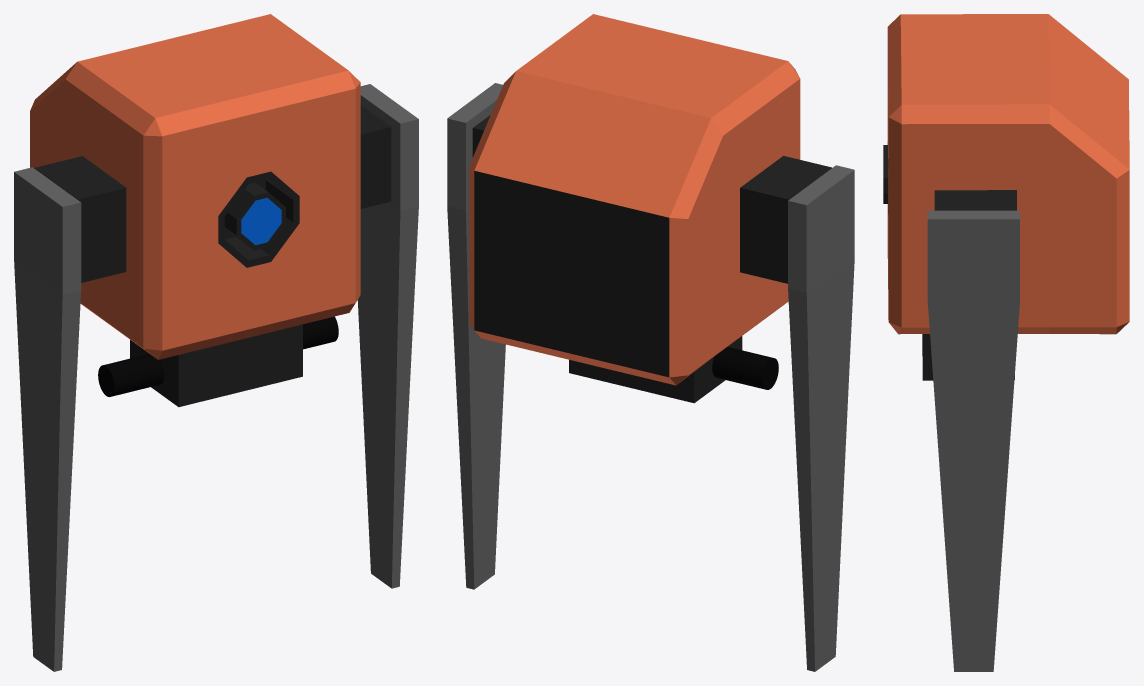
File: droid_v001.fbx
3 views of the same model, side by side, from view 1: azimuth 30°, elevation 25°; view 2: azimuth 150°, elevation 25°; view 3: azimuth 270°, elevation 25° (orthographic). The views are drawn at different scales.
Parts seen in each view (by area): view 1: Body, ArmR, ArmL, Axel; view 2: Body, ArmR, ArmL, Axel; view 3: Body, ArmL.
Boxes of the visible parts, left/top/right/bottom form: Body: left=30, top=14, right=391, bottom=407; ArmR: left=14, top=167, right=81, bottom=671; ArmL: left=357, top=84, right=418, bottom=588; Axel: left=98, top=316, right=338, bottom=396; Body: left=469, top=14, right=831, bottom=403; ArmR: left=788, top=165, right=854, bottom=671; ArmL: left=447, top=83, right=505, bottom=589; Axel: left=712, top=347, right=778, bottom=389; Body: left=883, top=14, right=1129, bottom=380; ArmL: left=927, top=210, right=1019, bottom=671.
Bounding box in the file's own units: 638 × 946 × 399.
